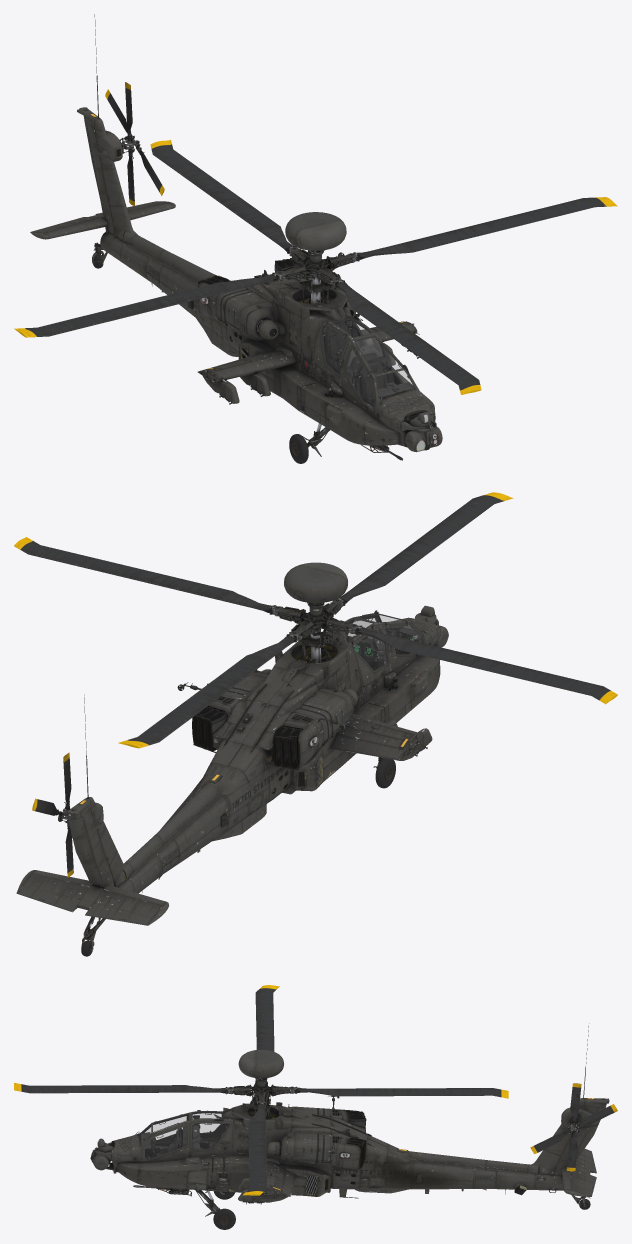
The model's file is ah-64d_apache_longbow.glb.
The picture shows the model from 3 angles, top to bottom: view 1: azimuth 30°, elevation 25°; view 2: azimuth 150°, elevation 25°; view 3: azimuth 270°, elevation 25°; orthographic projection. The views are drawn at different scales.
Visible parts, largest first — view 1: Object_7, Object_17, Object_14, Object_19, Object_16, Object_18, Object_21, Object_23, Object_6, Object_12, Object_5, Object_15; view 2: Object_17, Object_7, Object_14, Object_16, Object_18, Object_19, Object_6, Object_12, Object_21, Object_23, Object_5; view 3: Object_17, Object_14, Object_7, Object_18, Object_19, Object_21, Object_15, Object_23, Object_5, Object_16, Object_6, Object_12 (+1 smaller).
Boxes of the visible parts, left/top/right/bottom form: Object_7: left=14, top=140, right=617, bottom=394; Object_17: left=196, top=265, right=436, bottom=450; Object_14: left=77, top=14, right=442, bottom=452; Object_19: left=92, top=242, right=435, bottom=445; Object_16: left=30, top=201, right=350, bottom=404; Object_18: left=186, top=252, right=423, bottom=445; Object_21: left=200, top=296, right=438, bottom=450; Object_23: left=322, top=318, right=414, bottom=410; Object_6: left=285, top=212, right=346, bottom=260; Object_12: left=276, top=247, right=355, bottom=303; Object_5: left=105, top=82, right=164, bottom=205; Object_15: left=289, top=321, right=419, bottom=463; Object_17: left=192, top=610, right=441, bottom=838; Object_7: left=14, top=492, right=617, bottom=748; Object_14: left=65, top=625, right=448, bottom=956; Object_16: left=16, top=625, right=432, bottom=925; Object_18: left=177, top=626, right=438, bottom=813; Object_19: left=81, top=622, right=440, bottom=951; Object_6: left=284, top=562, right=347, bottom=613; Object_12: left=273, top=599, right=358, bottom=663; Object_21: left=69, top=614, right=423, bottom=822; Object_23: left=344, top=613, right=422, bottom=670; Object_5: left=32, top=752, right=73, bottom=877; Object_17: left=94, top=1103, right=410, bottom=1193; Object_14: left=92, top=1023, right=609, bottom=1209; Object_7: left=14, top=985, right=508, bottom=1195; Object_18: left=111, top=1095, right=385, bottom=1198; Object_19: left=117, top=1156, right=590, bottom=1216; Object_21: left=93, top=1101, right=609, bottom=1179; Object_15: left=213, top=1163, right=296, bottom=1229; Object_23: left=140, top=1111, right=230, bottom=1160; Object_5: left=530, top=1083, right=617, bottom=1171; Object_16: left=198, top=1110, right=596, bottom=1196; Object_6: left=238, top=1049, right=283, bottom=1085; Object_12: left=227, top=1080, right=295, bottom=1109.
Size of the model in its own units: 14.56 by 6.21 by 17.77.
12 materials, 9 textured.
